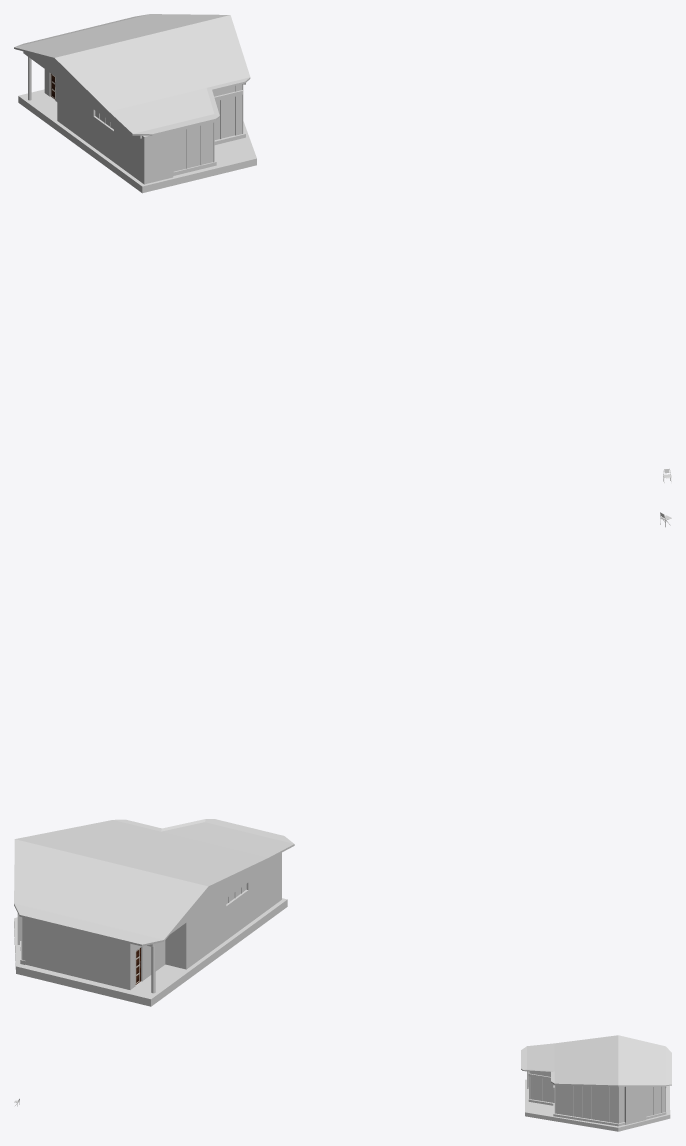
File: Vicenzo.fbx
The picture shows the model from 3 angles, top to bottom: view 1: azimuth 30°, elevation 25°; view 2: azimuth 150°, elevation 25°; view 3: azimuth 270°, elevation 25°; orthographic projection. The views are drawn at different scales.
Parts seen in each view (by area): view 1: Plane.004, Cube, Plane, Plane.002, Plane.007, Cube.005; view 2: Plane.004, Cube, Plane, Plane.007; view 3: Plane.004, Plane.002, Plane, Cube, Plane.003, Cube.005.
Part boxes in pixels (x1,y1,x2,y2): Plane.004: (14,14,250,135); Cube: (28,57,173,184); Plane: (18,89,256,193); Plane.002: (173,84,242,171); Plane.007: (23,51,235,138); Cube.005: (173,83,245,175); Plane.004: (14,819,294,946); Cube: (17,853,281,993); Plane: (14,898,287,1006); Plane.007: (147,853,280,946); Plane.004: (521,1035,671,1086); Plane.002: (530,1076,664,1123); Plane: (525,1079,670,1131); Cube: (527,1071,646,1124); Plane.003: (528,1076,665,1123); Cube.005: (528,1071,666,1126).
Size of the model in its own units: 5174 by 2209 by 28538.
